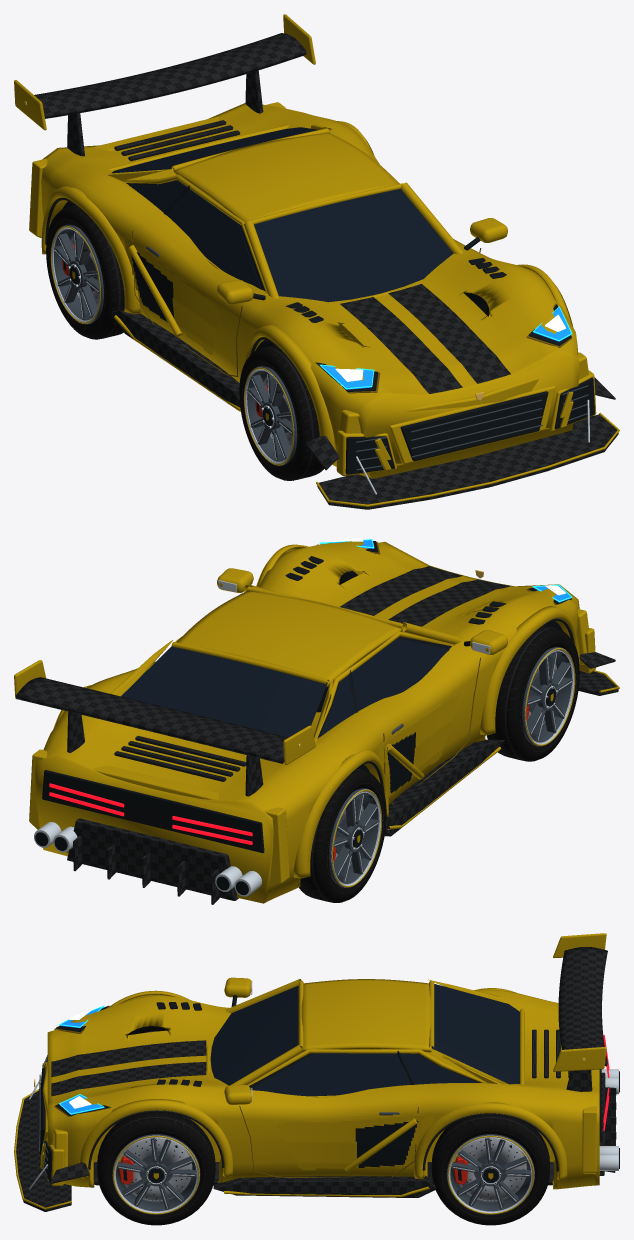
The model's file is 03_yellow_supercar.glb.
The picture shows the model from 3 angles, top to bottom: view 1: azimuth 30°, elevation 25°; view 2: azimuth 150°, elevation 25°; view 3: azimuth 270°, elevation 25°; orthographic projection. The views are drawn at different scales.
Visible parts, largest first — view 1: Vehicle_Static_Body, Wheel_FL_Geometry, Wheel_RL_Geometry; view 2: Vehicle_Static_Body, Wheel_FL_Geometry, Wheel_RL_Geometry; view 3: Vehicle_Static_Body, Wheel_FR_Geometry, Wheel_RR_Geometry.
Boxes of the visible parts, box(x1,y1,x2,y2) form: Vehicle_Static_Body: box(14, 14, 619, 509); Wheel_FL_Geometry: box(239, 344, 324, 480); Wheel_RL_Geometry: box(46, 205, 124, 339); Vehicle_Static_Body: box(14, 538, 619, 904); Wheel_FL_Geometry: box(487, 625, 579, 761); Wheel_RL_Geometry: box(299, 768, 386, 902); Vehicle_Static_Body: box(14, 933, 619, 1211); Wheel_FR_Geometry: box(97, 1112, 215, 1225); Wheel_RR_Geometry: box(431, 1115, 549, 1225).
Bounding box in the file's own units: 2.42 × 1.64 × 5.02.
17 materials, 3 textured.
